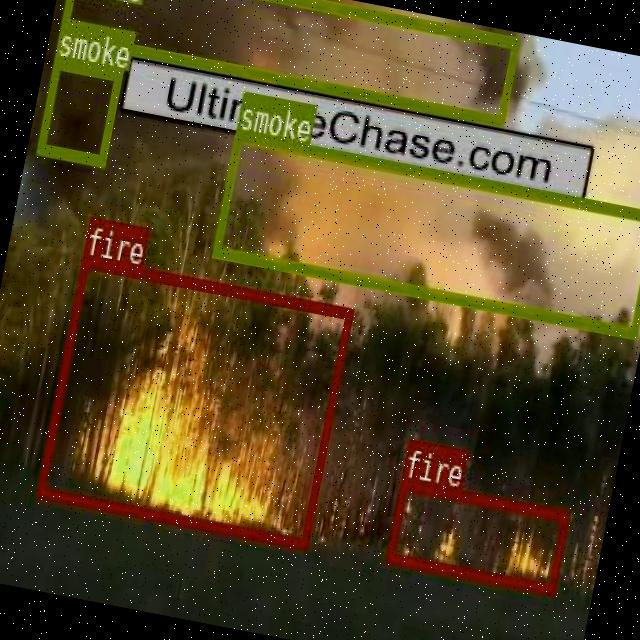fire: (35, 255, 352, 548), (384, 478, 570, 592)
smoke: (212, 129, 640, 336), (57, 0, 520, 124), (36, 56, 121, 164)
